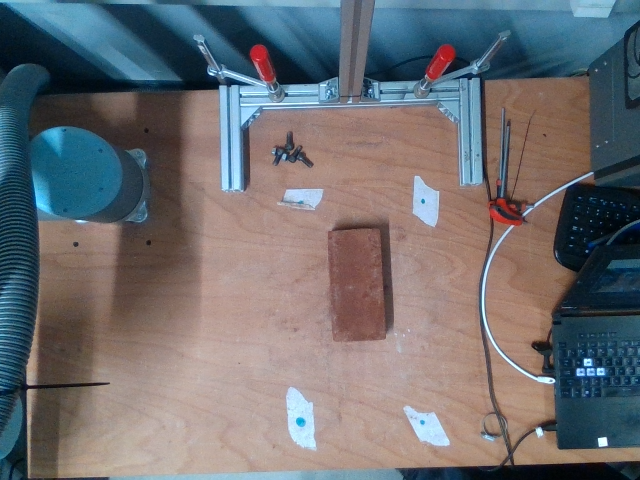brick: (329, 227, 386, 338)
